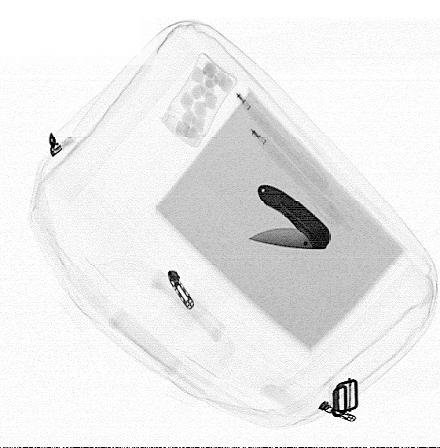Knife: (246, 182, 332, 250)
